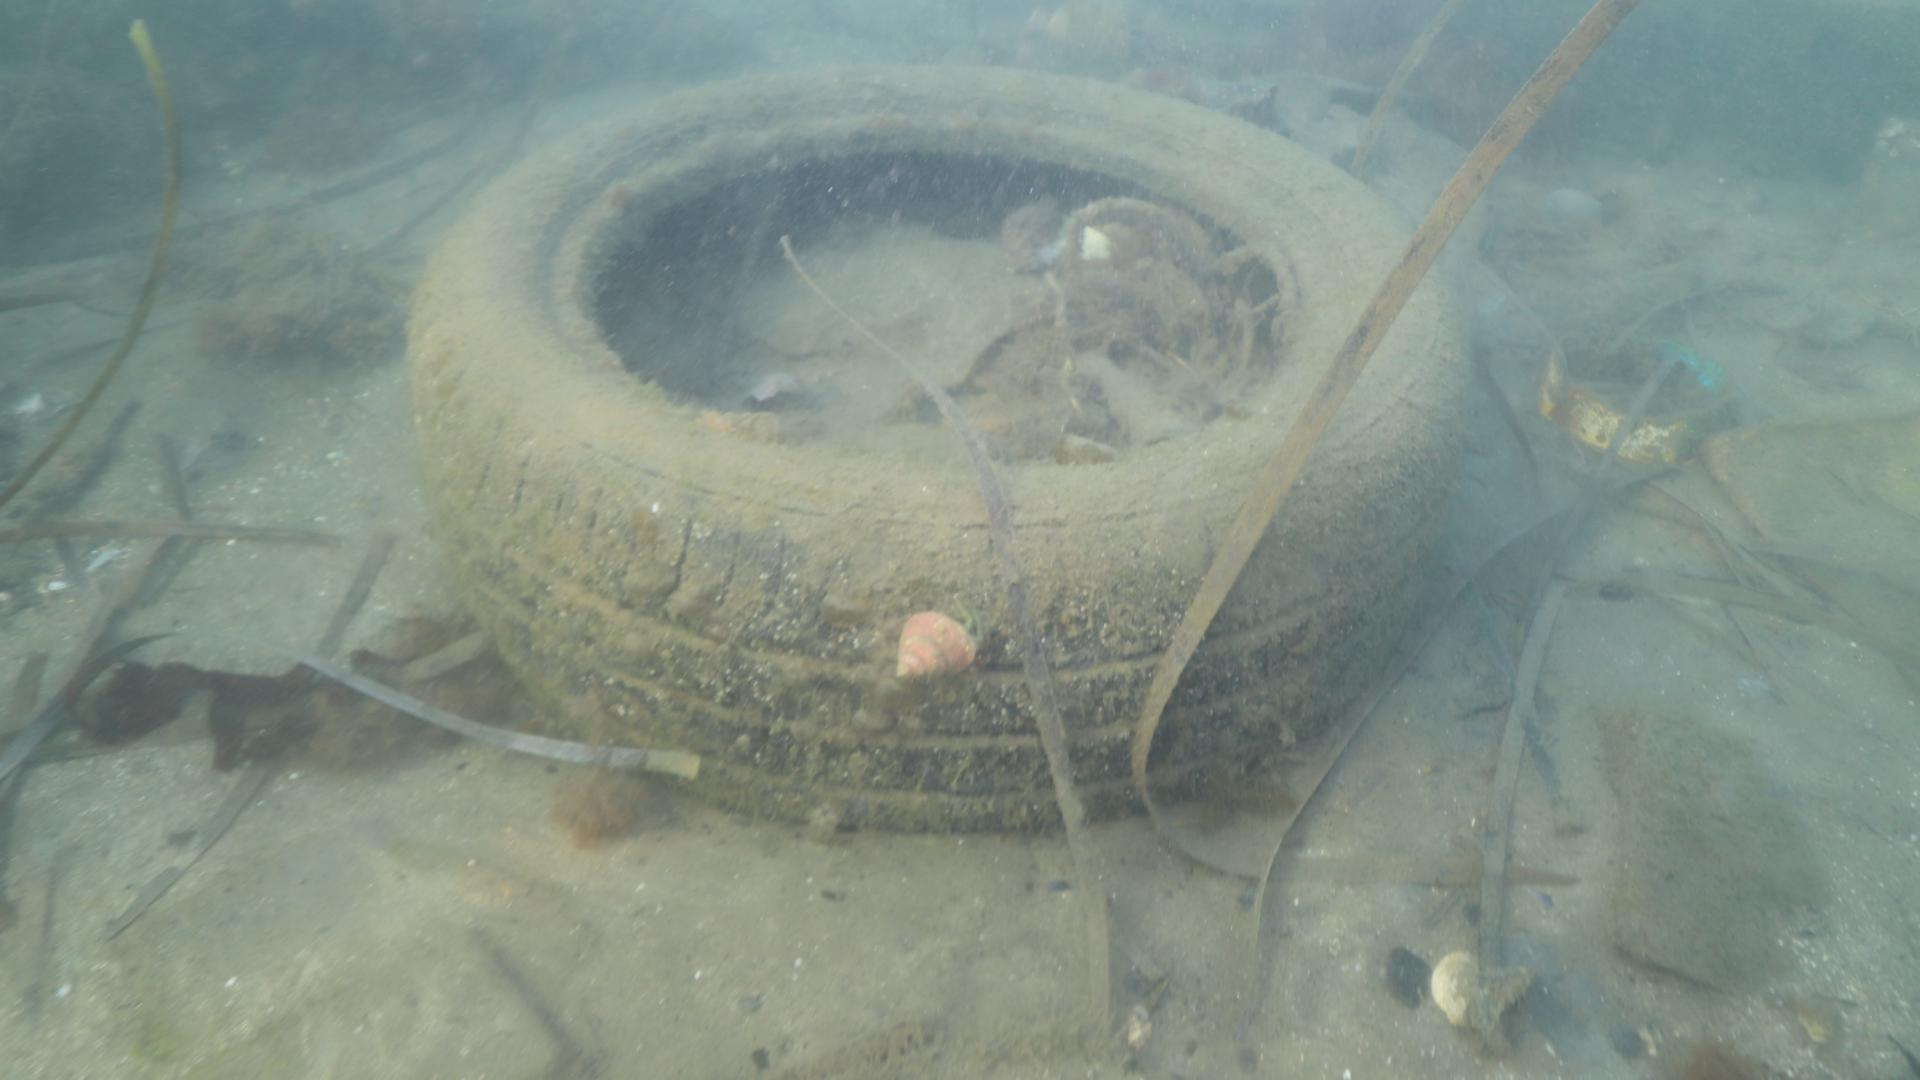tire: (398, 55, 1465, 833)
